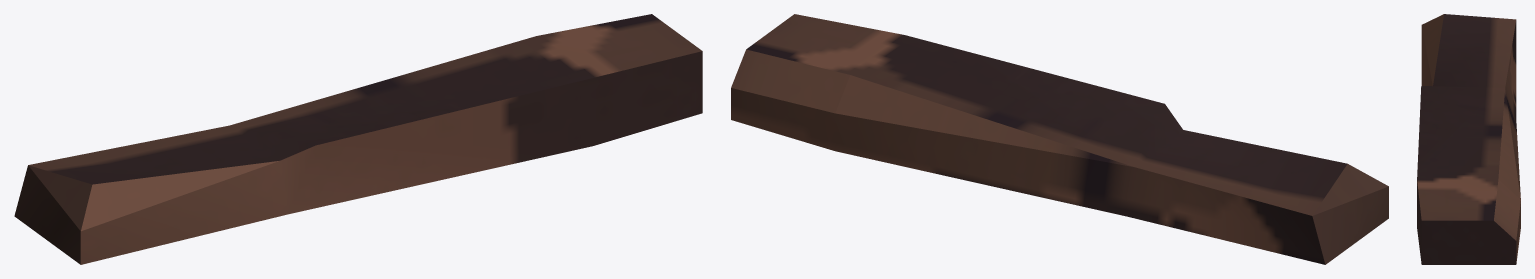
Rendered from bridge_09.FBX.
3 renders of one model, left to right at view 1: azimuth 30°, elevation 25°; view 2: azimuth 150°, elevation 25°; view 3: azimuth 270°, elevation 25°, orthographic. The views are drawn at different scales.
Visible parts, largest first — view 1: bridge_09; view 2: bridge_09; view 3: bridge_09.
Part boxes in pixels (<box>): bridge_09: <box>14,14,702,264</box>; bridge_09: <box>731,14,1388,264</box>; bridge_09: <box>1417,14,1520,264</box>.
Size of the model in its own units: 3.41 by 0.3573 by 0.6923.
